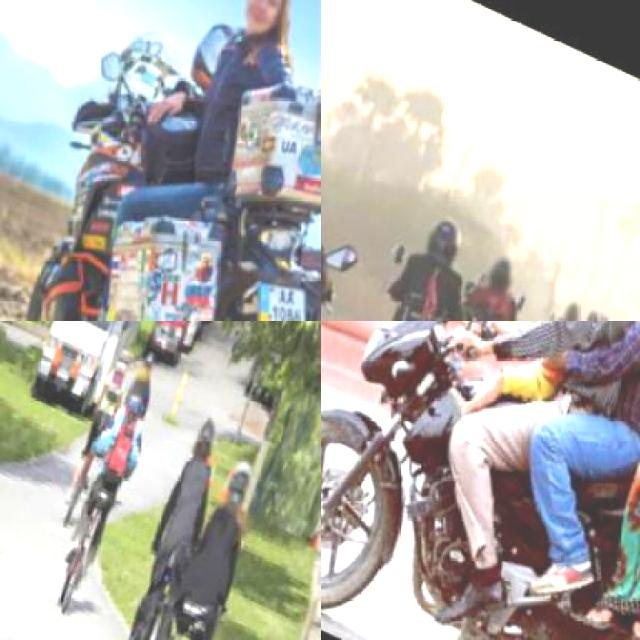With Helmet: (403, 190, 472, 275), (220, 0, 311, 46), (206, 436, 260, 512), (468, 231, 523, 300), (177, 392, 225, 458), (116, 353, 153, 404), (548, 280, 583, 318)
